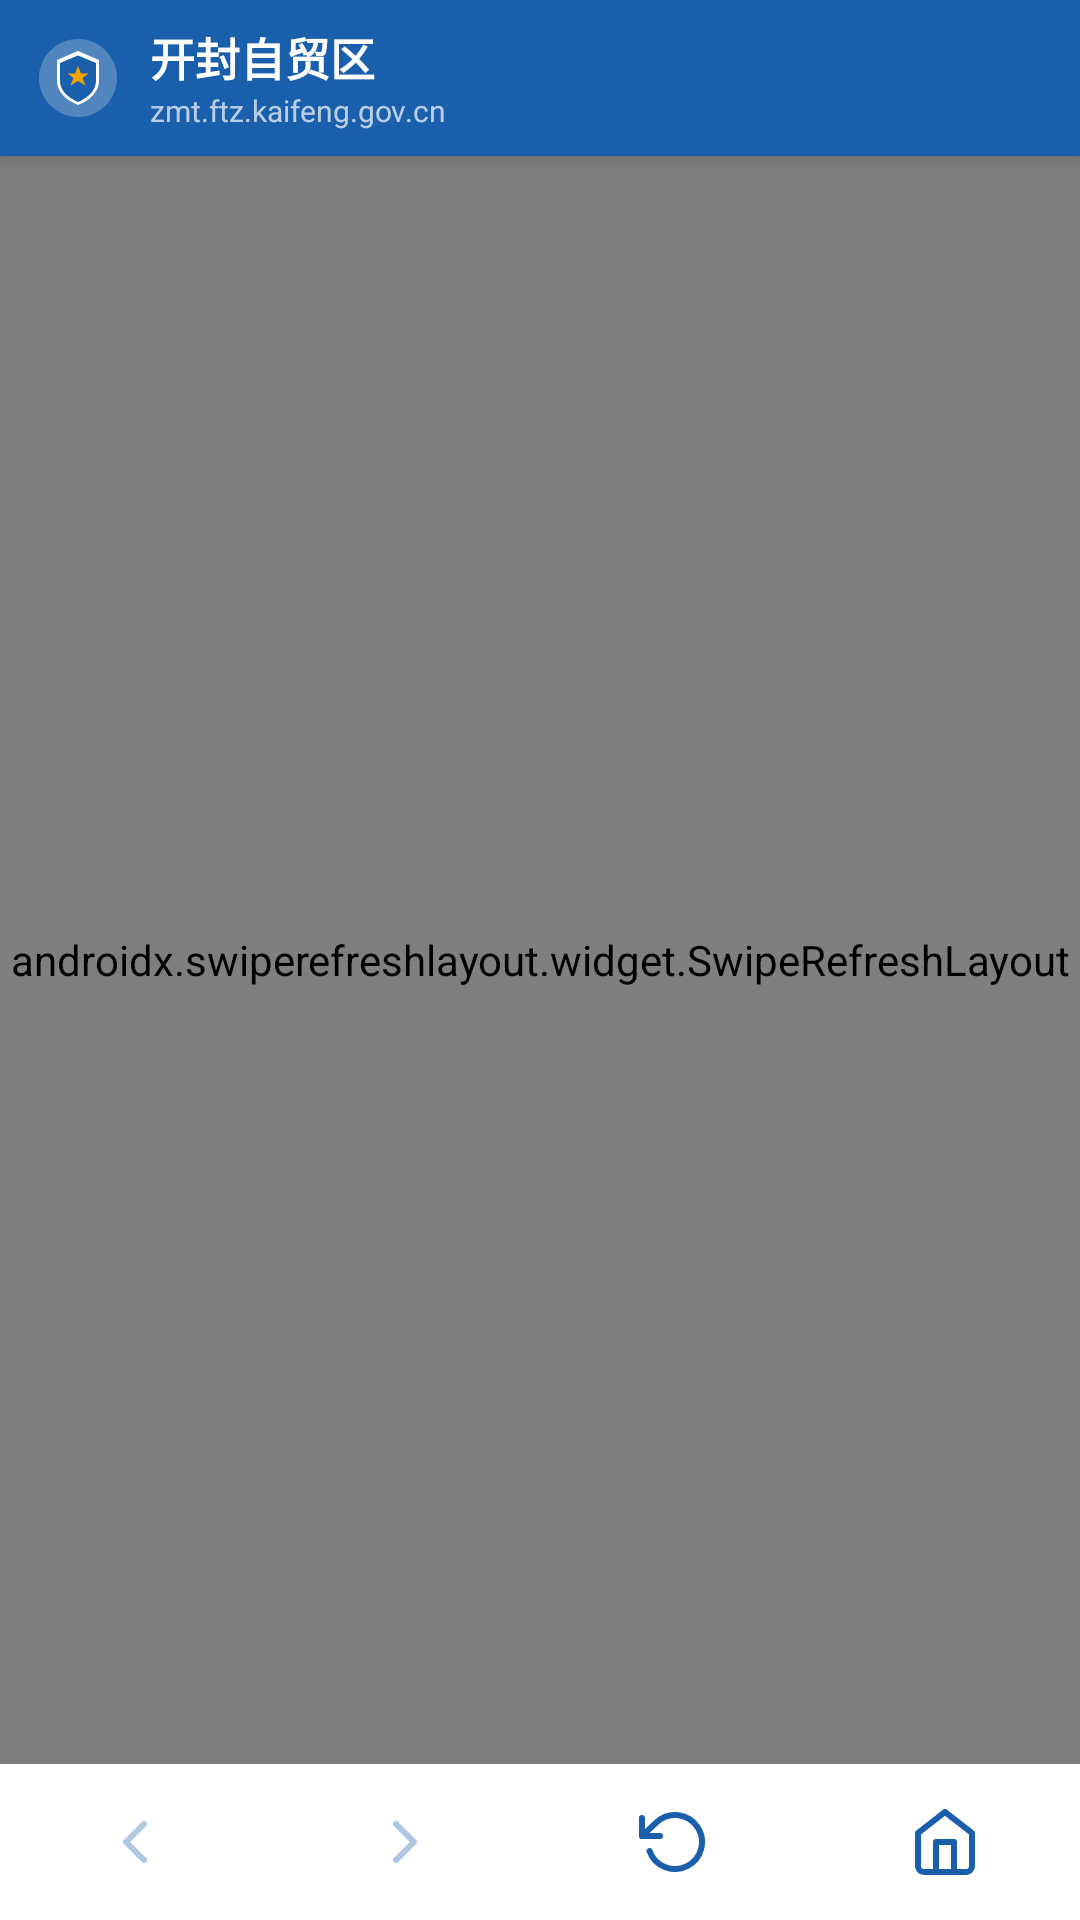

Where to tap for icons on this 1080px x 1920px app screen, as (x,y):
刷新: (672,1842)
前进: (405,1842)
后退: (135,1842)
首页: (945,1842)
